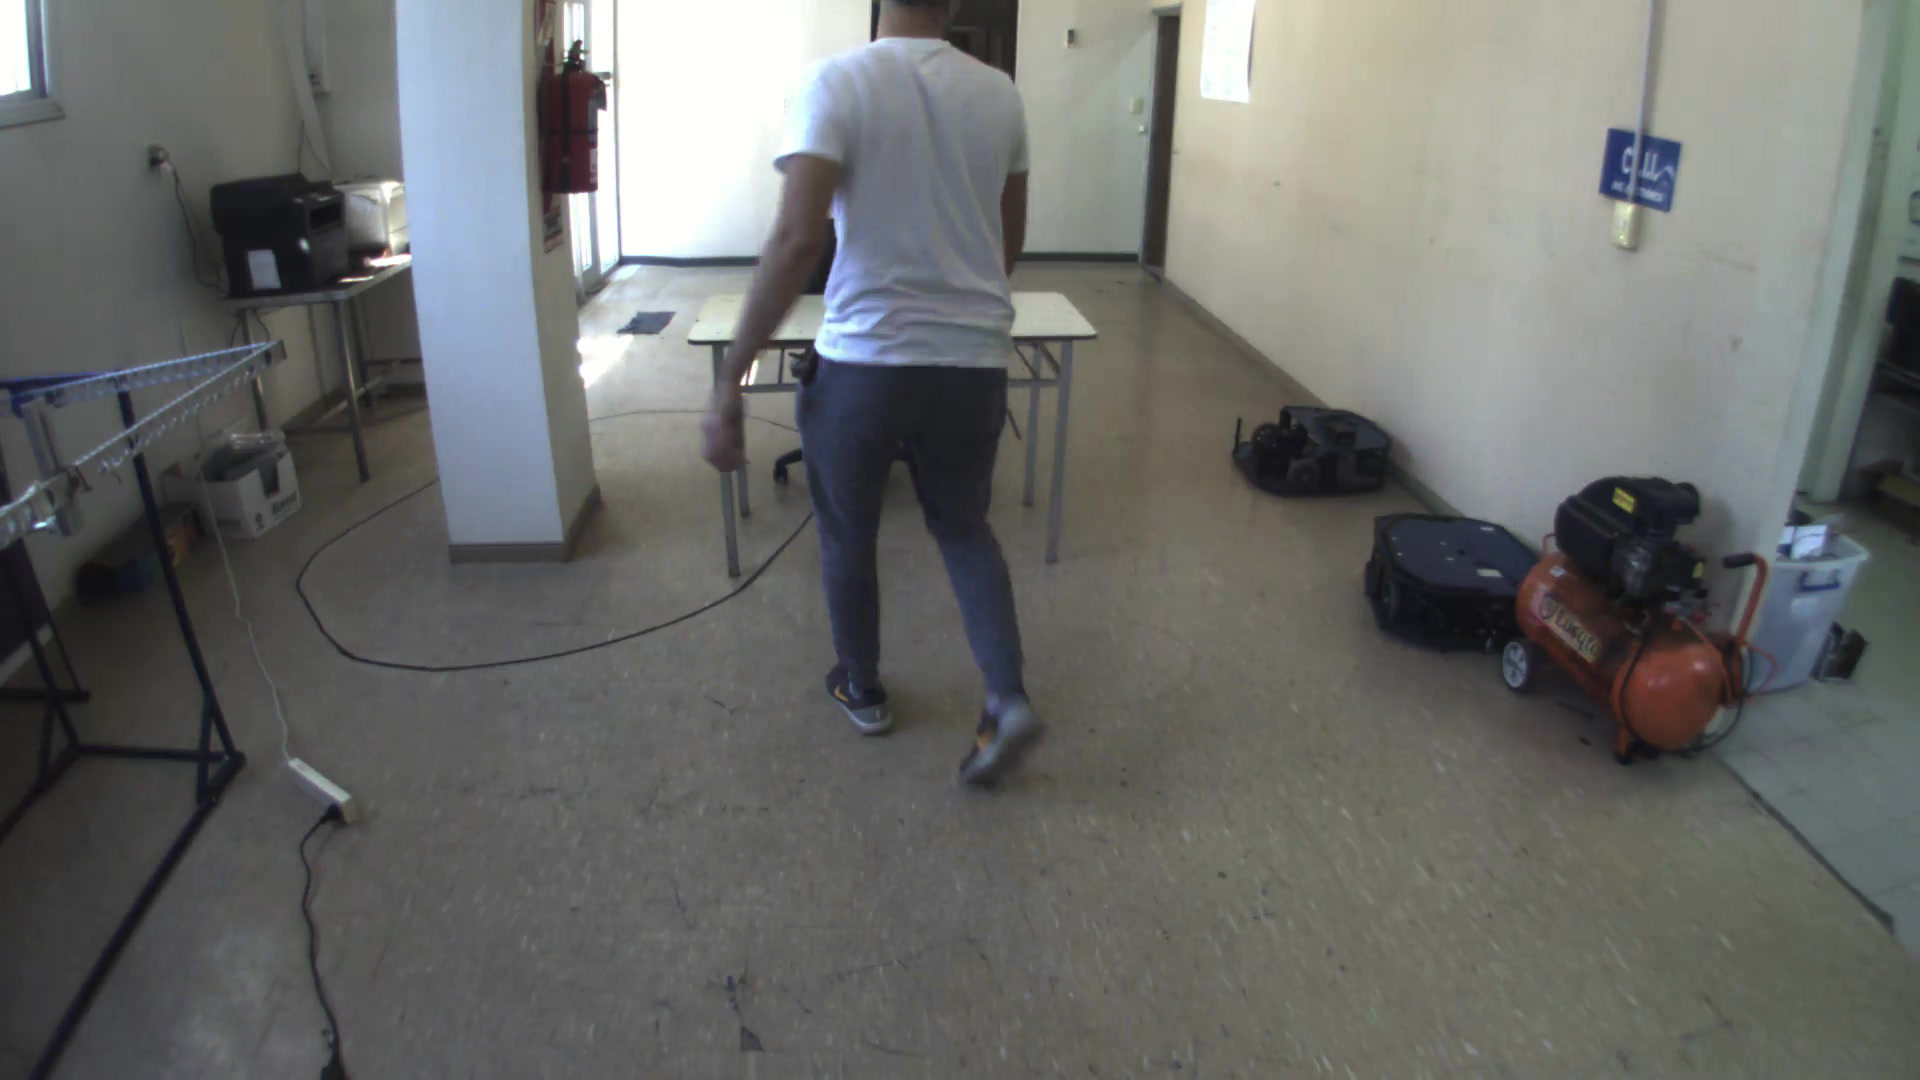hand: (695, 376, 749, 473)
